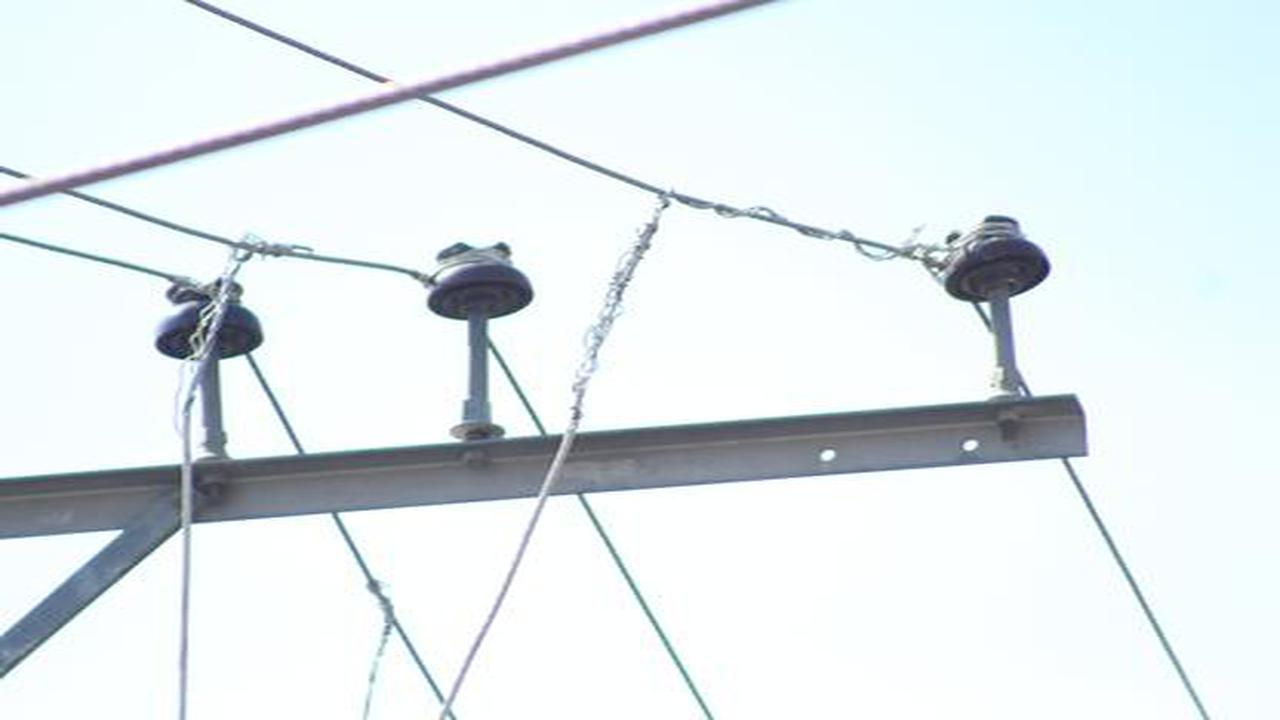insulator_pin: (149, 264, 269, 358), (936, 212, 1052, 308), (421, 227, 538, 320)
